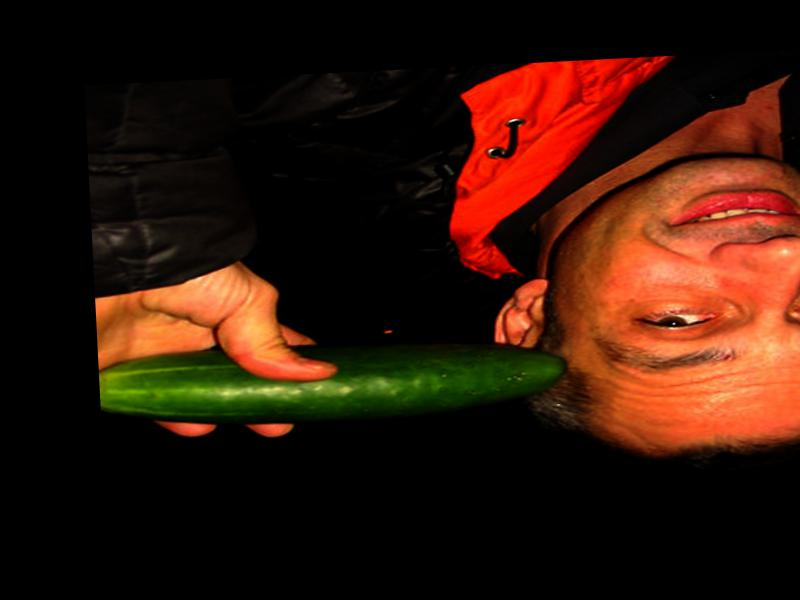Cucumber: (100, 333, 571, 431)
